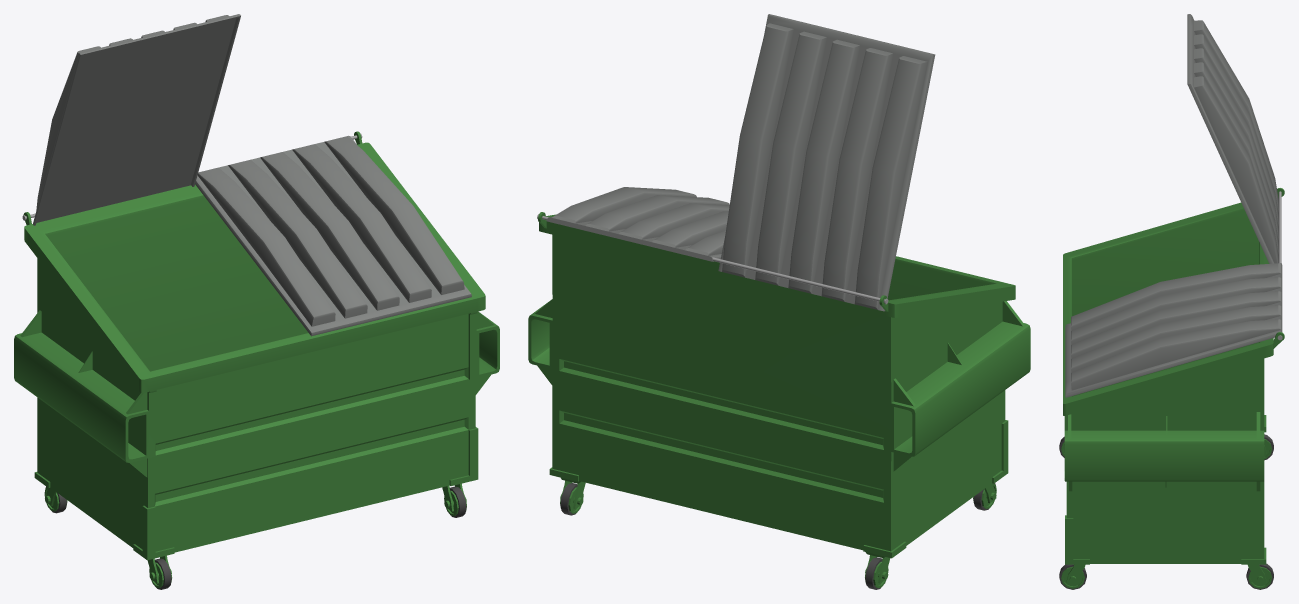
Rendered from Dumpster.fbx.
The picture shows the model from 3 angles, left to right: view 1: azimuth 30°, elevation 25°; view 2: azimuth 150°, elevation 25°; view 3: azimuth 270°, elevation 25°; orthographic projection. The views are drawn at different scales.
Parts seen in each view (by area): view 1: MainBox, Object001; view 2: MainBox, Object001; view 3: MainBox, Object001.
Boxes of the visible parts, box(x1,y1,x2,y2) form: MainBox: box(14, 131, 499, 589); Object001: box(33, 14, 240, 225); MainBox: box(528, 187, 1030, 589); Object001: box(718, 14, 935, 311); MainBox: box(1059, 188, 1284, 589); Object001: box(1187, 14, 1278, 263).
Bounding box in the file's own units: 4.63 × 5.8 × 2.7.
